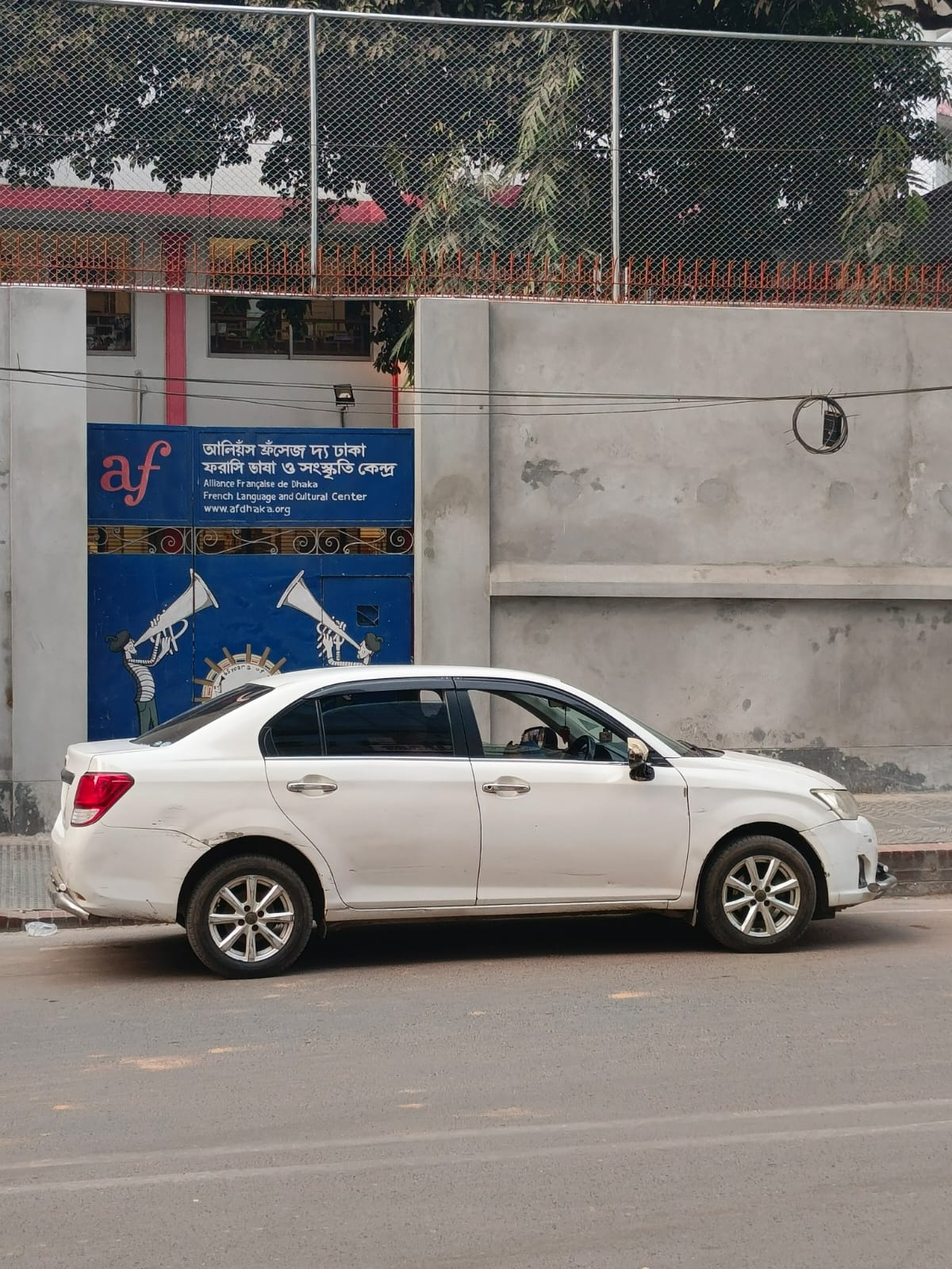private car: (19, 651, 914, 1086)
